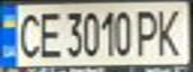0: (112, 7, 136, 57), (81, 8, 100, 57)
1: (100, 8, 118, 57)
3: (60, 7, 84, 58)
C: (12, 8, 45, 60)
E: (33, 8, 63, 60)
K: (151, 5, 187, 57)
P: (133, 6, 163, 57)
